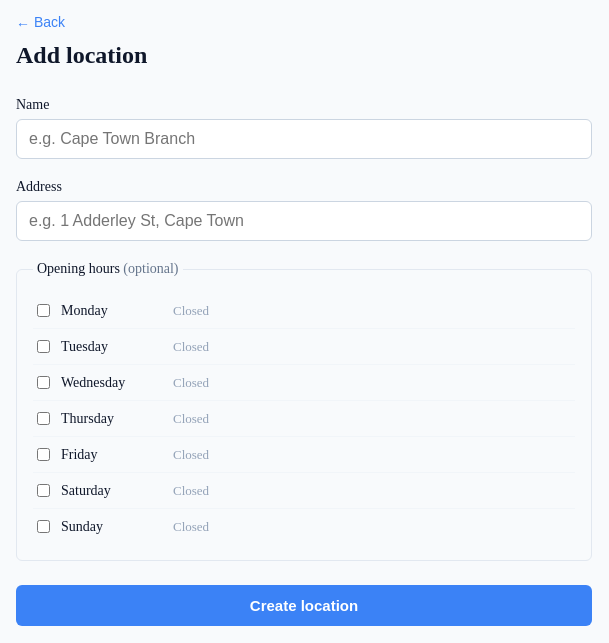
Test: AddLocationView › shows success state with slug after successful submit
The width and height of the screenshot is (609, 643).
In the field with test id "name-input": x=304, y=139 top-left (16, 119), bottom-right (592, 159), type "Main Branch"
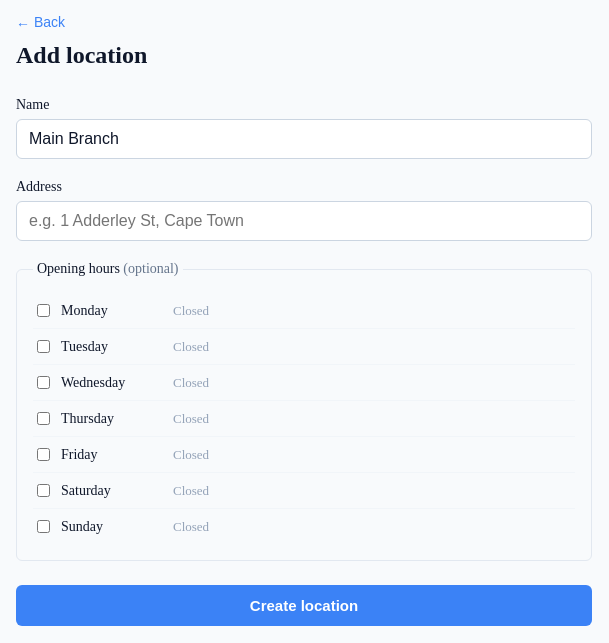
In the field with test id "address-input": x=304, y=221 top-left (16, 201), bottom-right (592, 241), type "123 Main St"
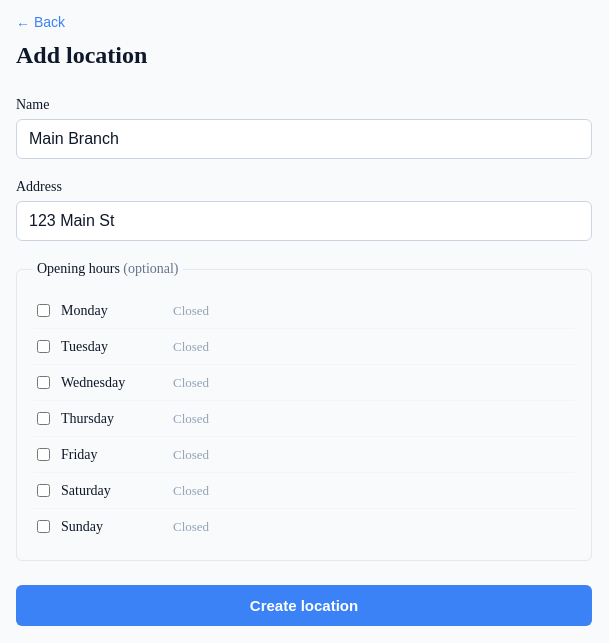
Submit the form with test id "add-location-form"
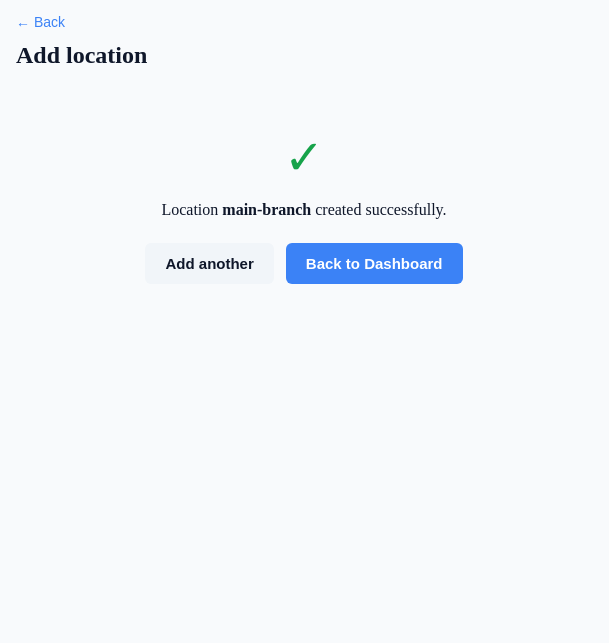
Check: the element with test id "success-state" is shown, box top-left (146, 131), bottom-right (462, 284)
Check: the element with test id "success-state" shows "main-branch", box top-left (222, 201), bottom-right (311, 218)
